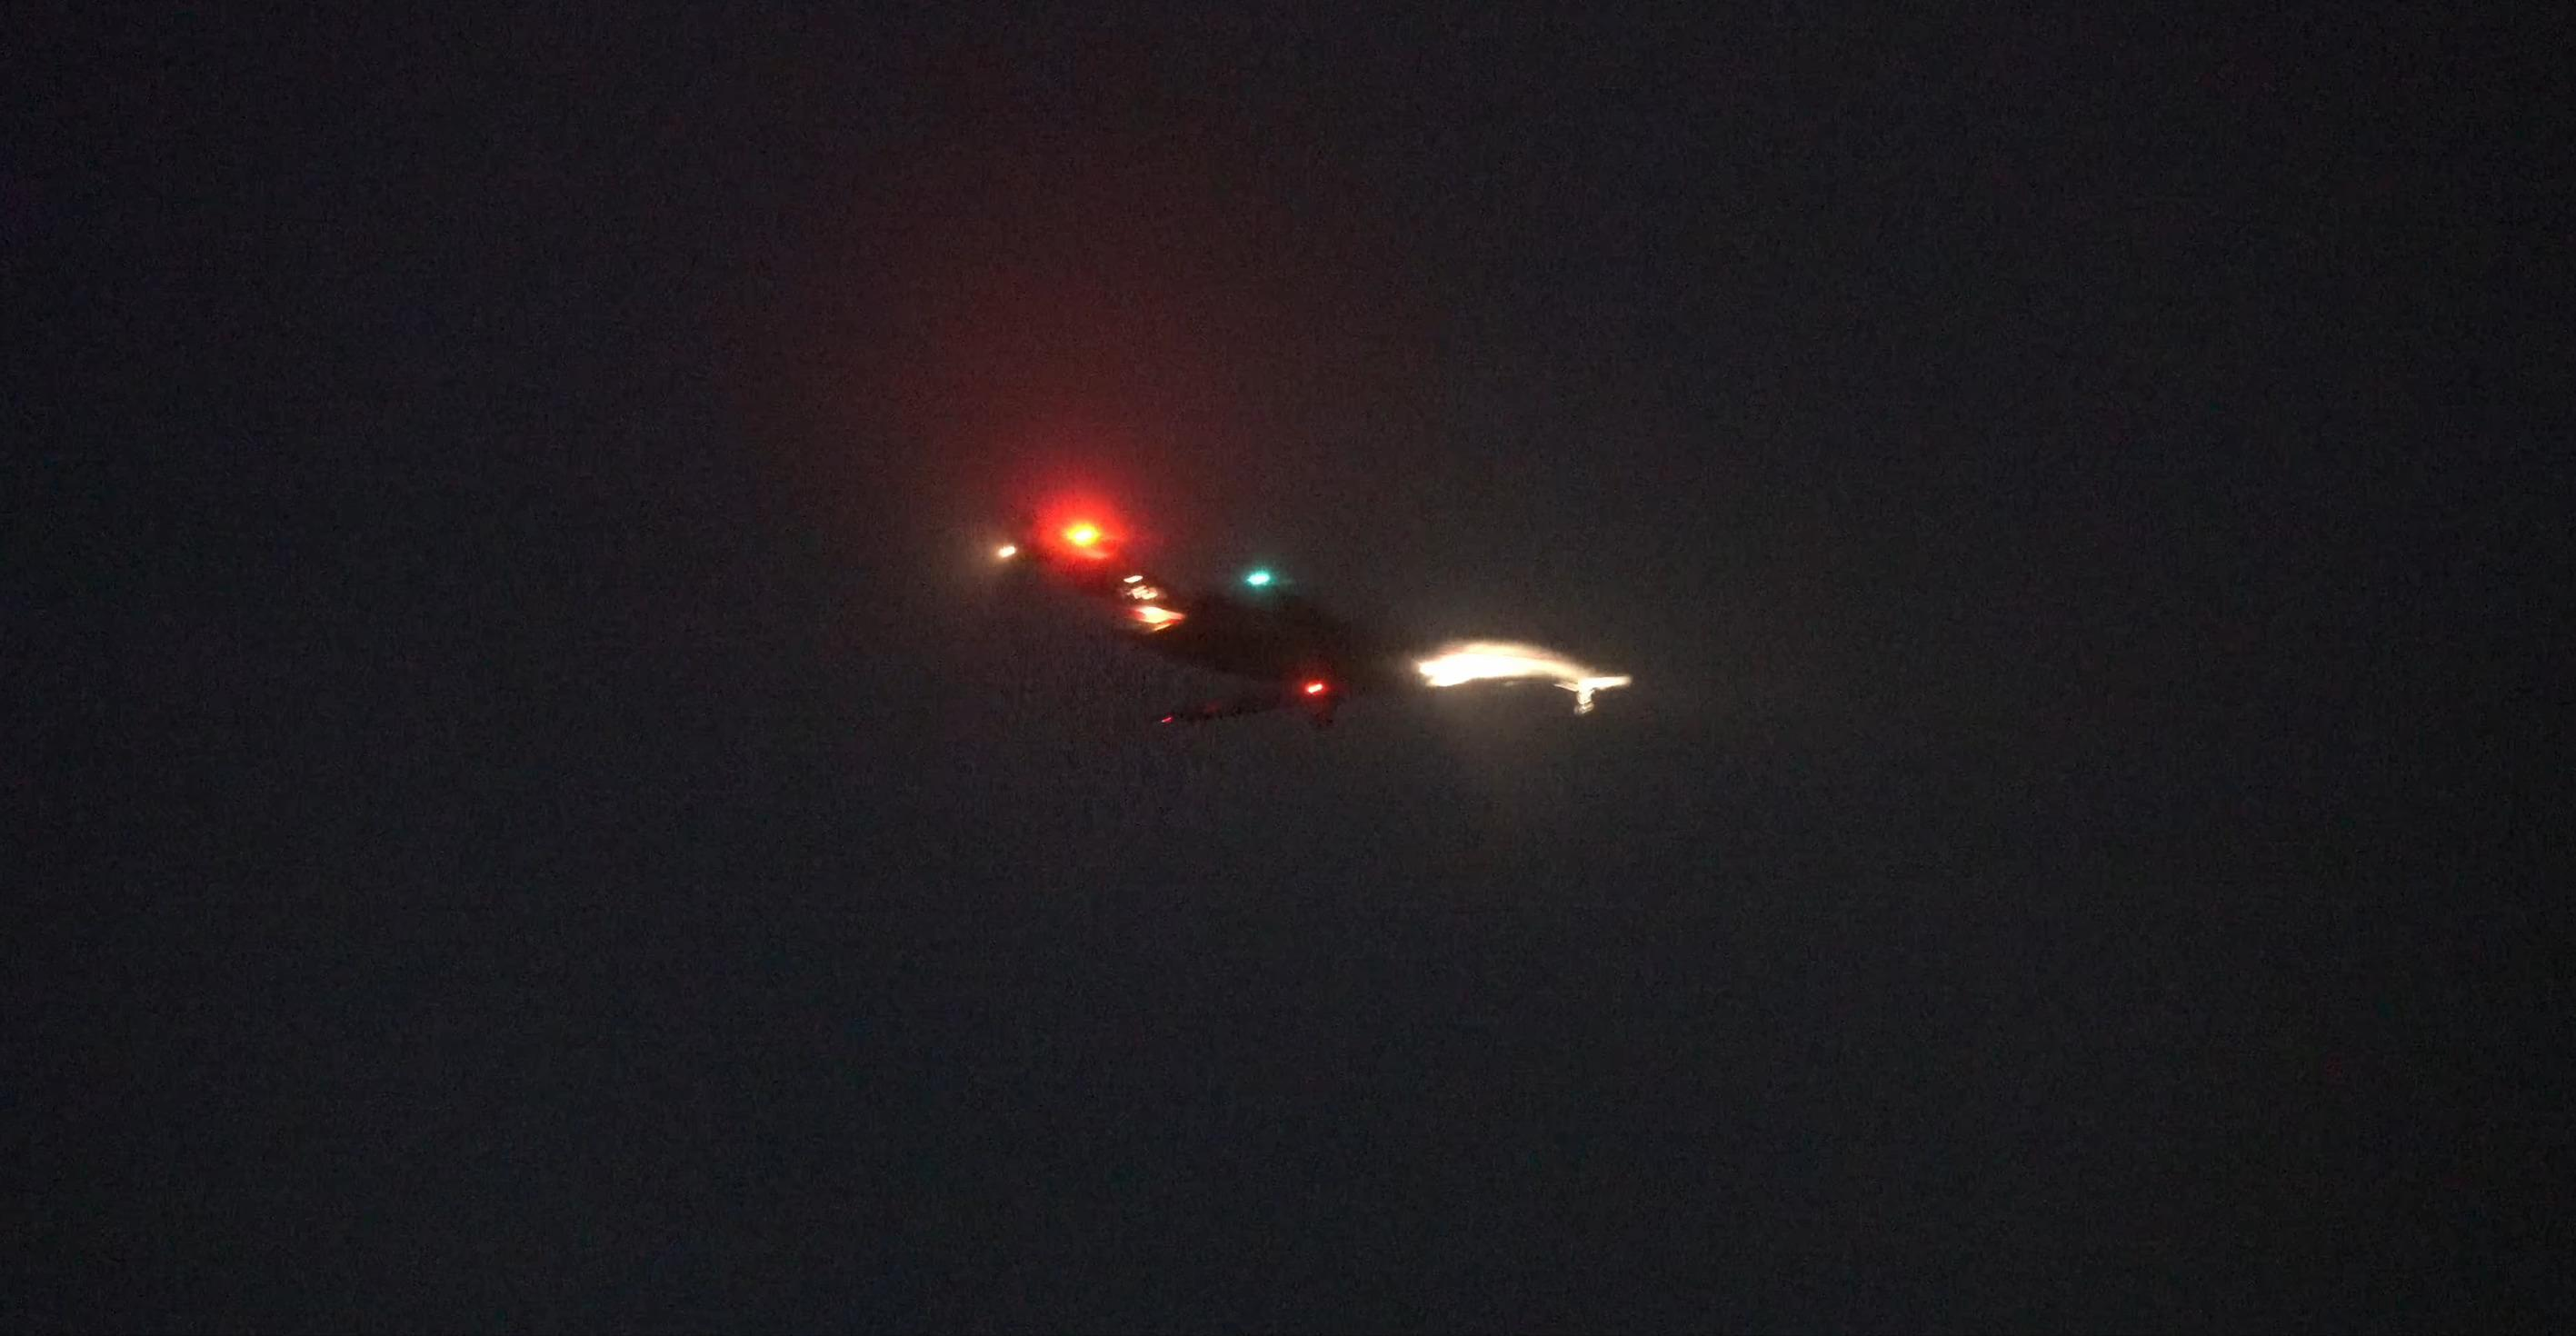Plane: (951, 511, 1571, 717)
